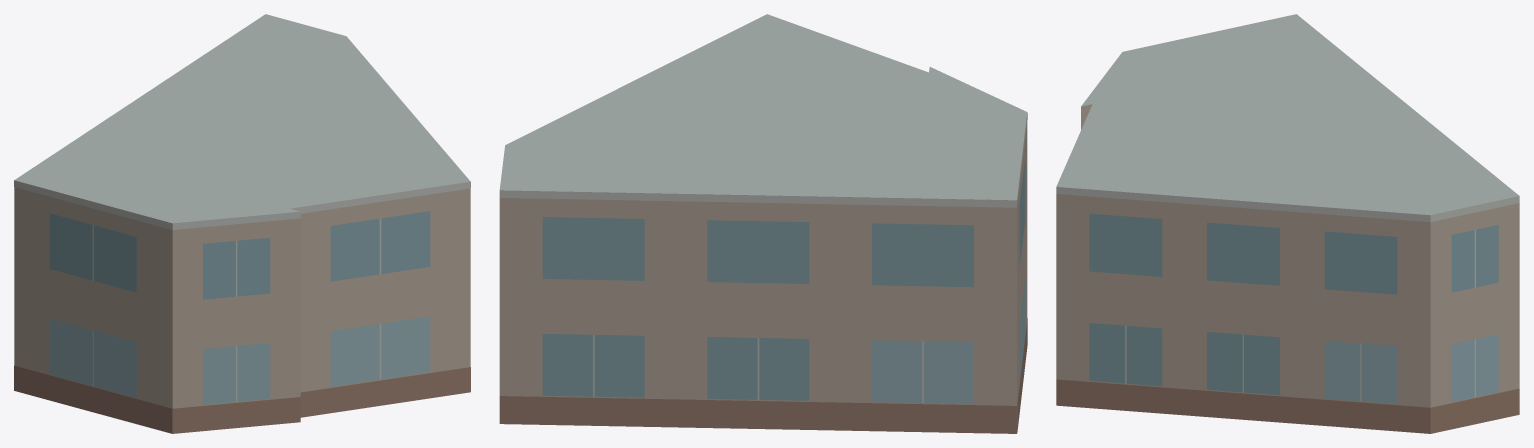
Rendered from survey-upis-32704037.glb.
The picture shows the model from 3 angles, left to right: view 1: azimuth 30°, elevation 25°; view 2: azimuth 150°, elevation 25°; view 3: azimuth 270°, elevation 25°; orthographic projection. The views are drawn at different scales.
Parts seen in each view (by area): view 1: survey-upis-32704037.tmp; view 2: survey-upis-32704037.tmp; view 3: survey-upis-32704037.tmp.
Part boxes in pixels (x1,y1,x2,y2): survey-upis-32704037.tmp: (14, 14, 470, 433); survey-upis-32704037.tmp: (499, 14, 1027, 433); survey-upis-32704037.tmp: (1056, 14, 1519, 433).
Bounding box in the file's own units: 15.1 × 7.65 × 14.71.
